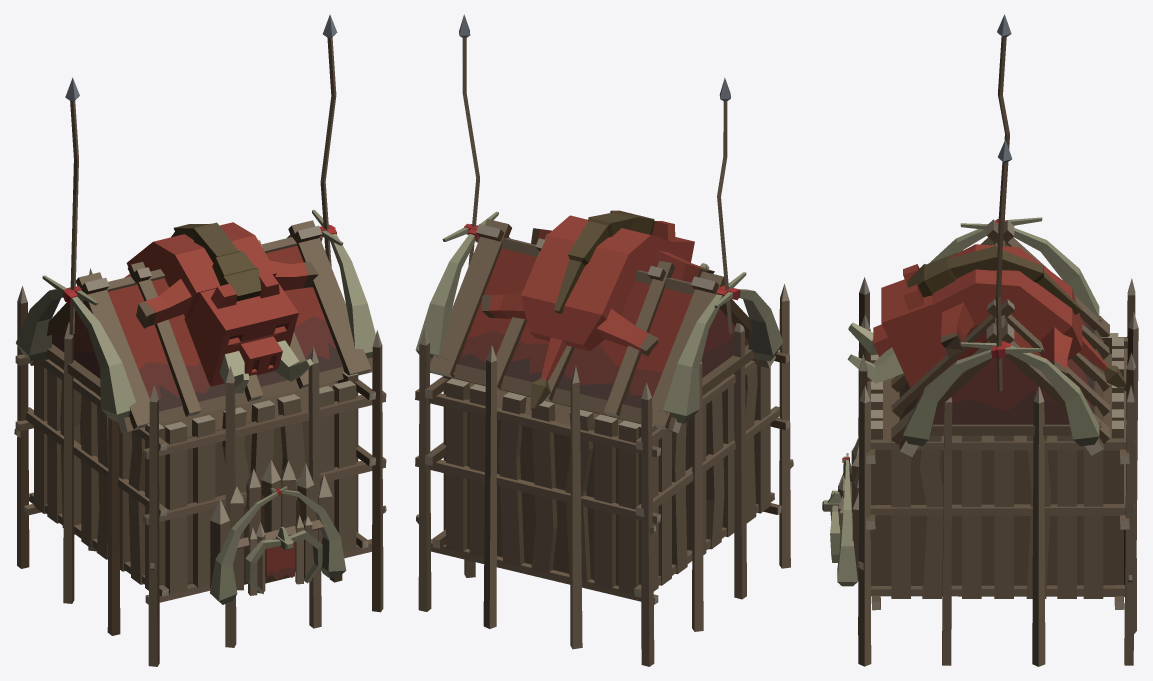
File: SF_Bld_Goblin_Keep_01.fbx
3 renders of one model, left to right at view 1: azimuth 30°, elevation 25°; view 2: azimuth 150°, elevation 25°; view 3: azimuth 270°, elevation 25°, orthographic.
Visible parts, largest first — view 1: SF_Bld_Goblin_Keep_01; view 2: SF_Bld_Goblin_Keep_01; view 3: SF_Bld_Goblin_Keep_01.
Boxes of the visible parts, box(x1,y1,x2,y2) form: SF_Bld_Goblin_Keep_01: box(14, 14, 386, 666); SF_Bld_Goblin_Keep_01: box(415, 14, 793, 666); SF_Bld_Goblin_Keep_01: box(822, 14, 1138, 666).
Bounding box in the file's own units: 22.4 × 41.89 × 22.39.
